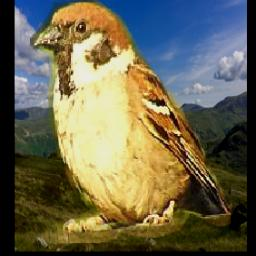Sparrow: (31, 0, 231, 244)
